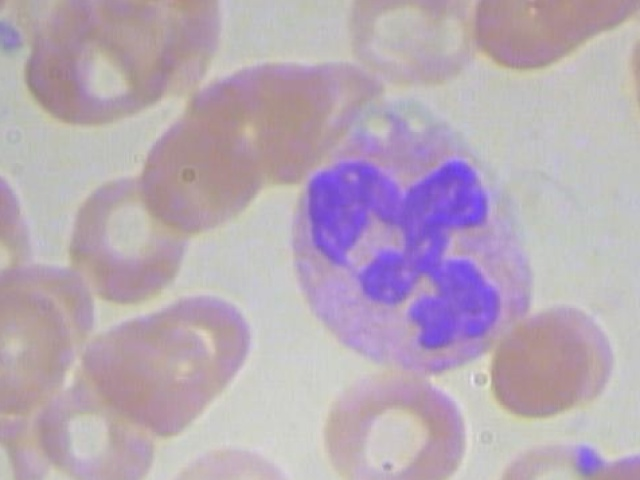RBC: (13, 0, 182, 130), (134, 97, 264, 240), (62, 169, 191, 312), (81, 310, 224, 435), (312, 369, 472, 480), (337, 0, 482, 96), (489, 308, 595, 420), (36, 391, 159, 480), (0, 283, 72, 417), (491, 431, 619, 480), (165, 441, 302, 480), (0, 381, 49, 480), (621, 17, 640, 169), (589, 447, 640, 480)
WBC: (275, 85, 545, 389)
